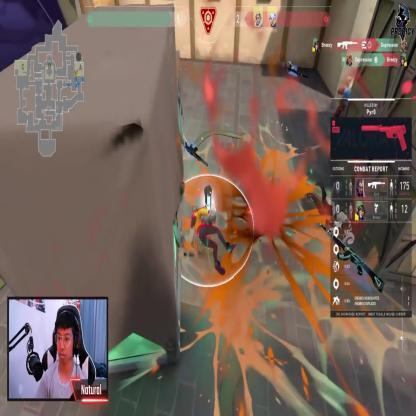enemy: (335, 70, 353, 138)
enemy_head: (346, 74, 351, 88)
